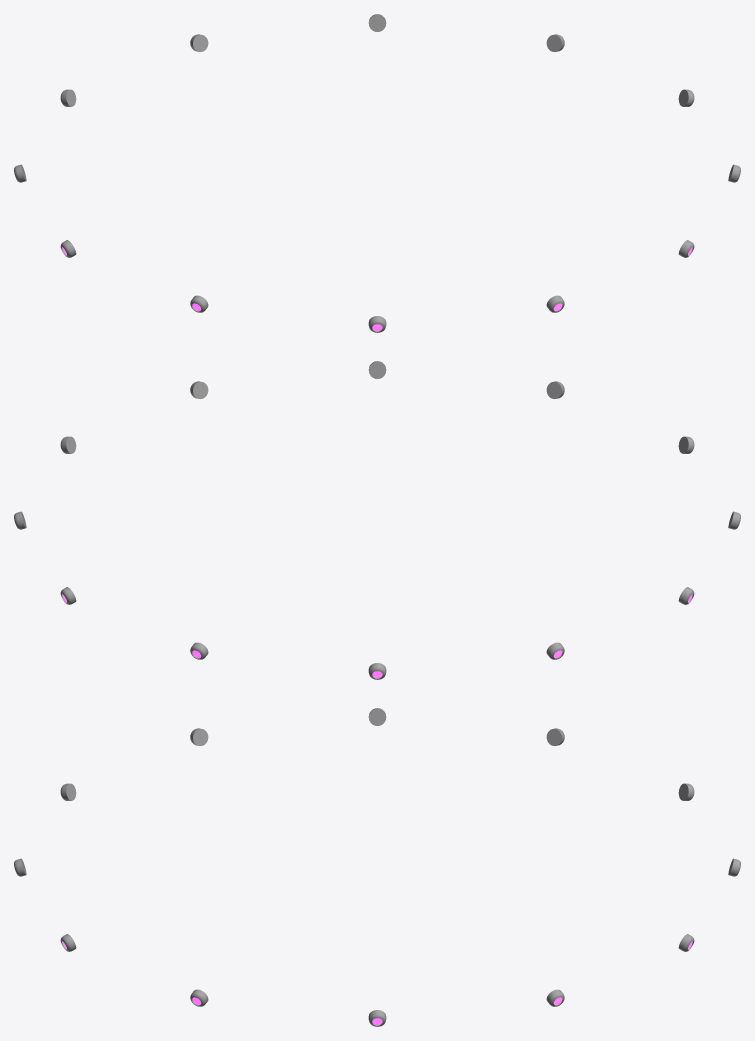
File: OuterLights.gltf
3 views of the same model, one above another, from view 1: azimuth 30°, elevation 25°; view 2: azimuth 150°, elevation 25°; view 3: azimuth 270°, elevation 25° (orthographic).
Parts seen in each view (by area): view 1: OuterLight; view 2: OuterLight; view 3: OuterLight.
Boxes of the visible parts, x1,y1,x2,y2 form: OuterLight: [14, 14, 740, 332]; OuterLight: [14, 361, 740, 679]; OuterLight: [14, 708, 740, 1026].
Bounding box in the file's own units: 40.26 × 1 × 40.26.
